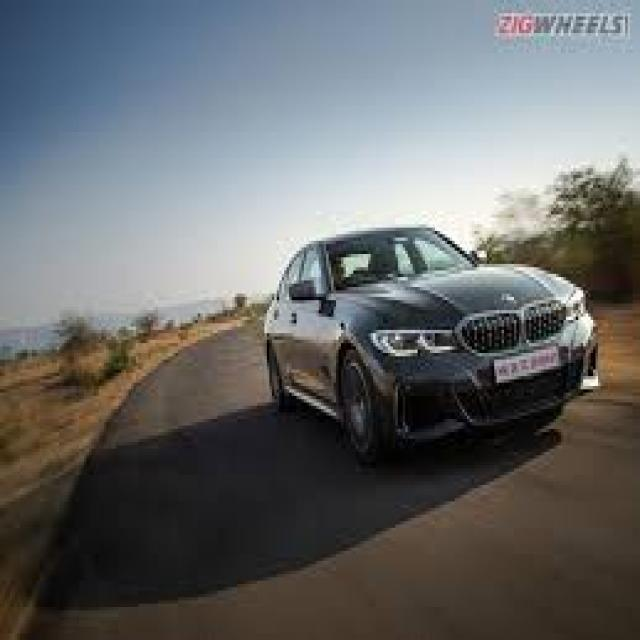SUV: (260, 218, 598, 460)
